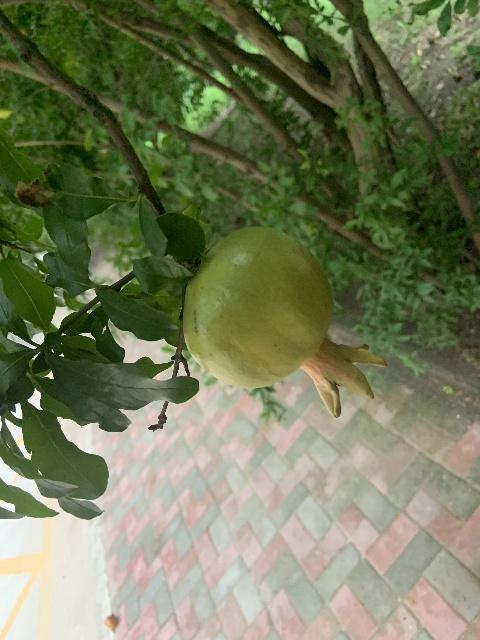mid-growth: (181, 227, 388, 418)
